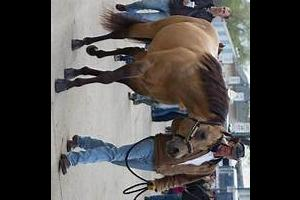horse: (54, 8, 230, 159)
